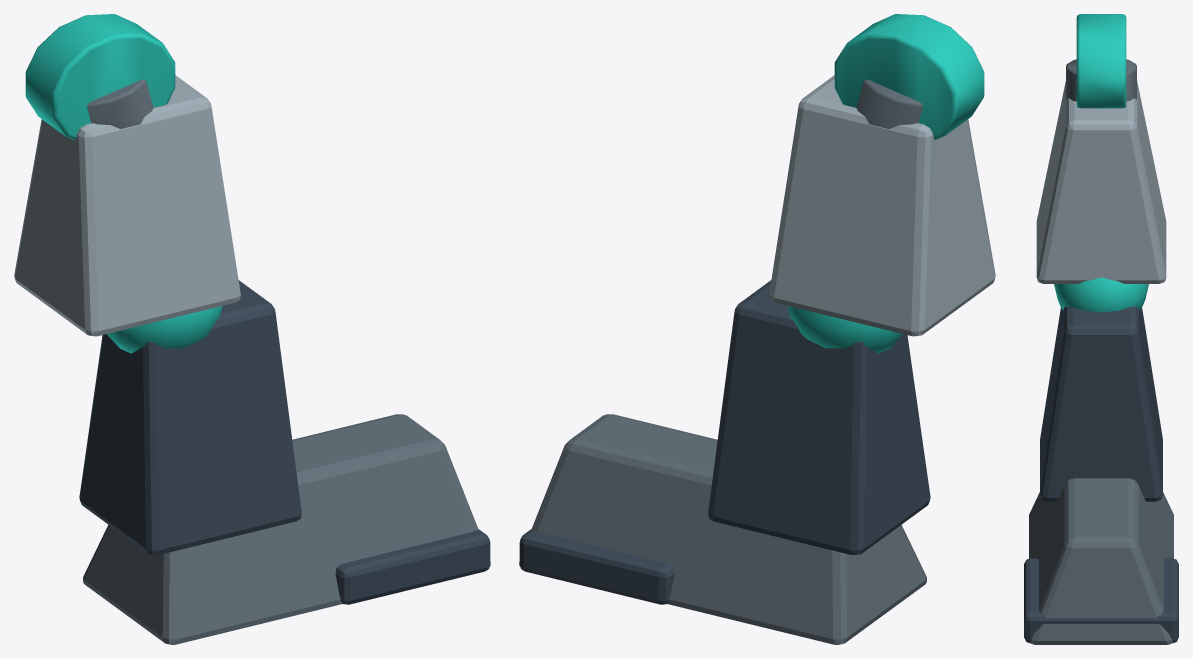
File: SM_Ember_LegR.fbx
3 views of the same model, side by side, from view 1: azimuth 30°, elevation 25°; view 2: azimuth 150°, elevation 25°; view 3: azimuth 270°, elevation 25° (orthographic). The views are drawn at different scales.
Visible parts, largest first — view 1: SM_Ember_LegR; view 2: SM_Ember_LegR; view 3: SM_Ember_LegR.
Boxes of the visible parts, x1=… form: SM_Ember_LegR: x1=14, y1=14, x2=490, y2=644; SM_Ember_LegR: x1=519, y1=14, x2=995, y2=644; SM_Ember_LegR: x1=1024, y1=14, x2=1178, y2=644.
Size of the model in its own units: 16.57 by 6.62 by 23.
